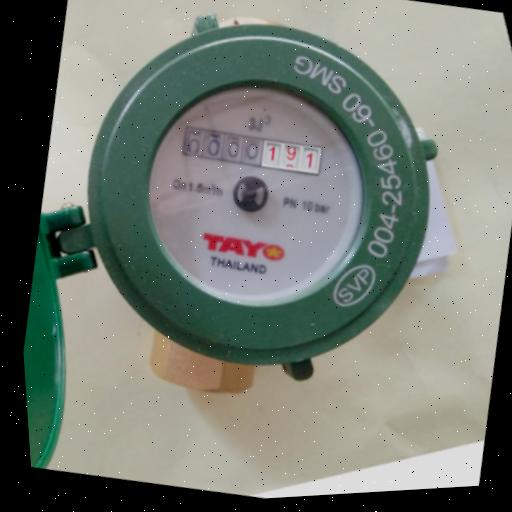0: (184, 129, 204, 156), (222, 134, 242, 160), (203, 132, 222, 158), (242, 138, 260, 164)
1: (262, 144, 282, 167), (300, 147, 318, 172)
9: (280, 145, 299, 169)
border_water_meter_number: (179, 118, 325, 185)
